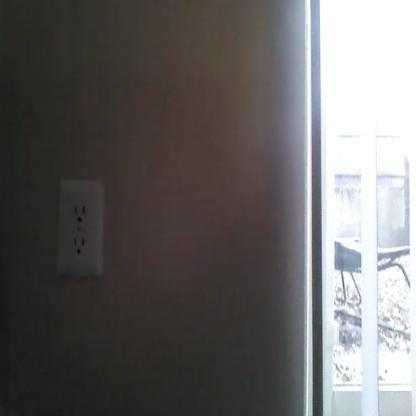OUTLET: (58, 180, 102, 277)
